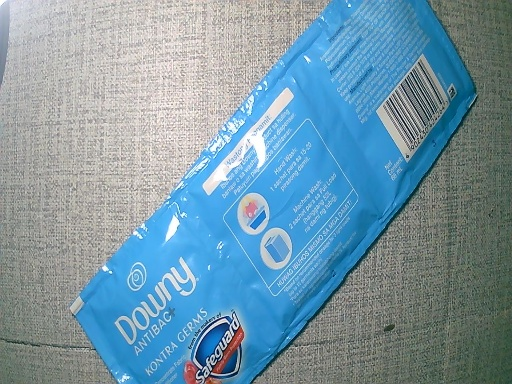plastic: (72, 3, 481, 384)
